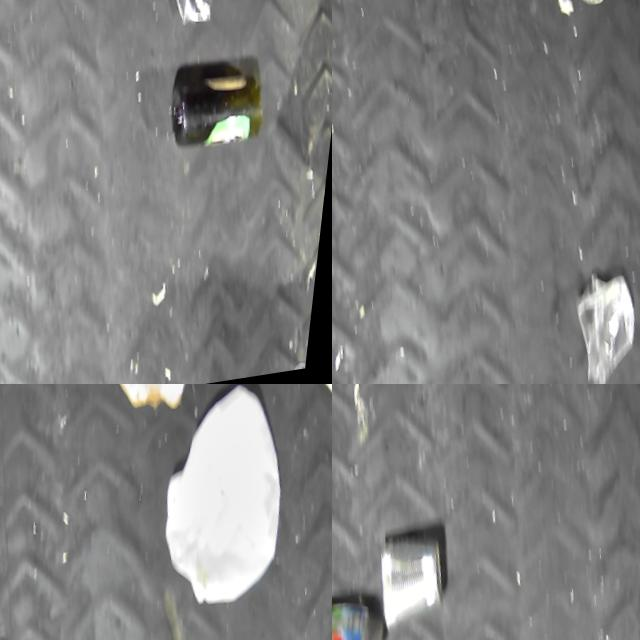can: (375, 528, 463, 638)
milk_jug: (141, 384, 312, 612)
